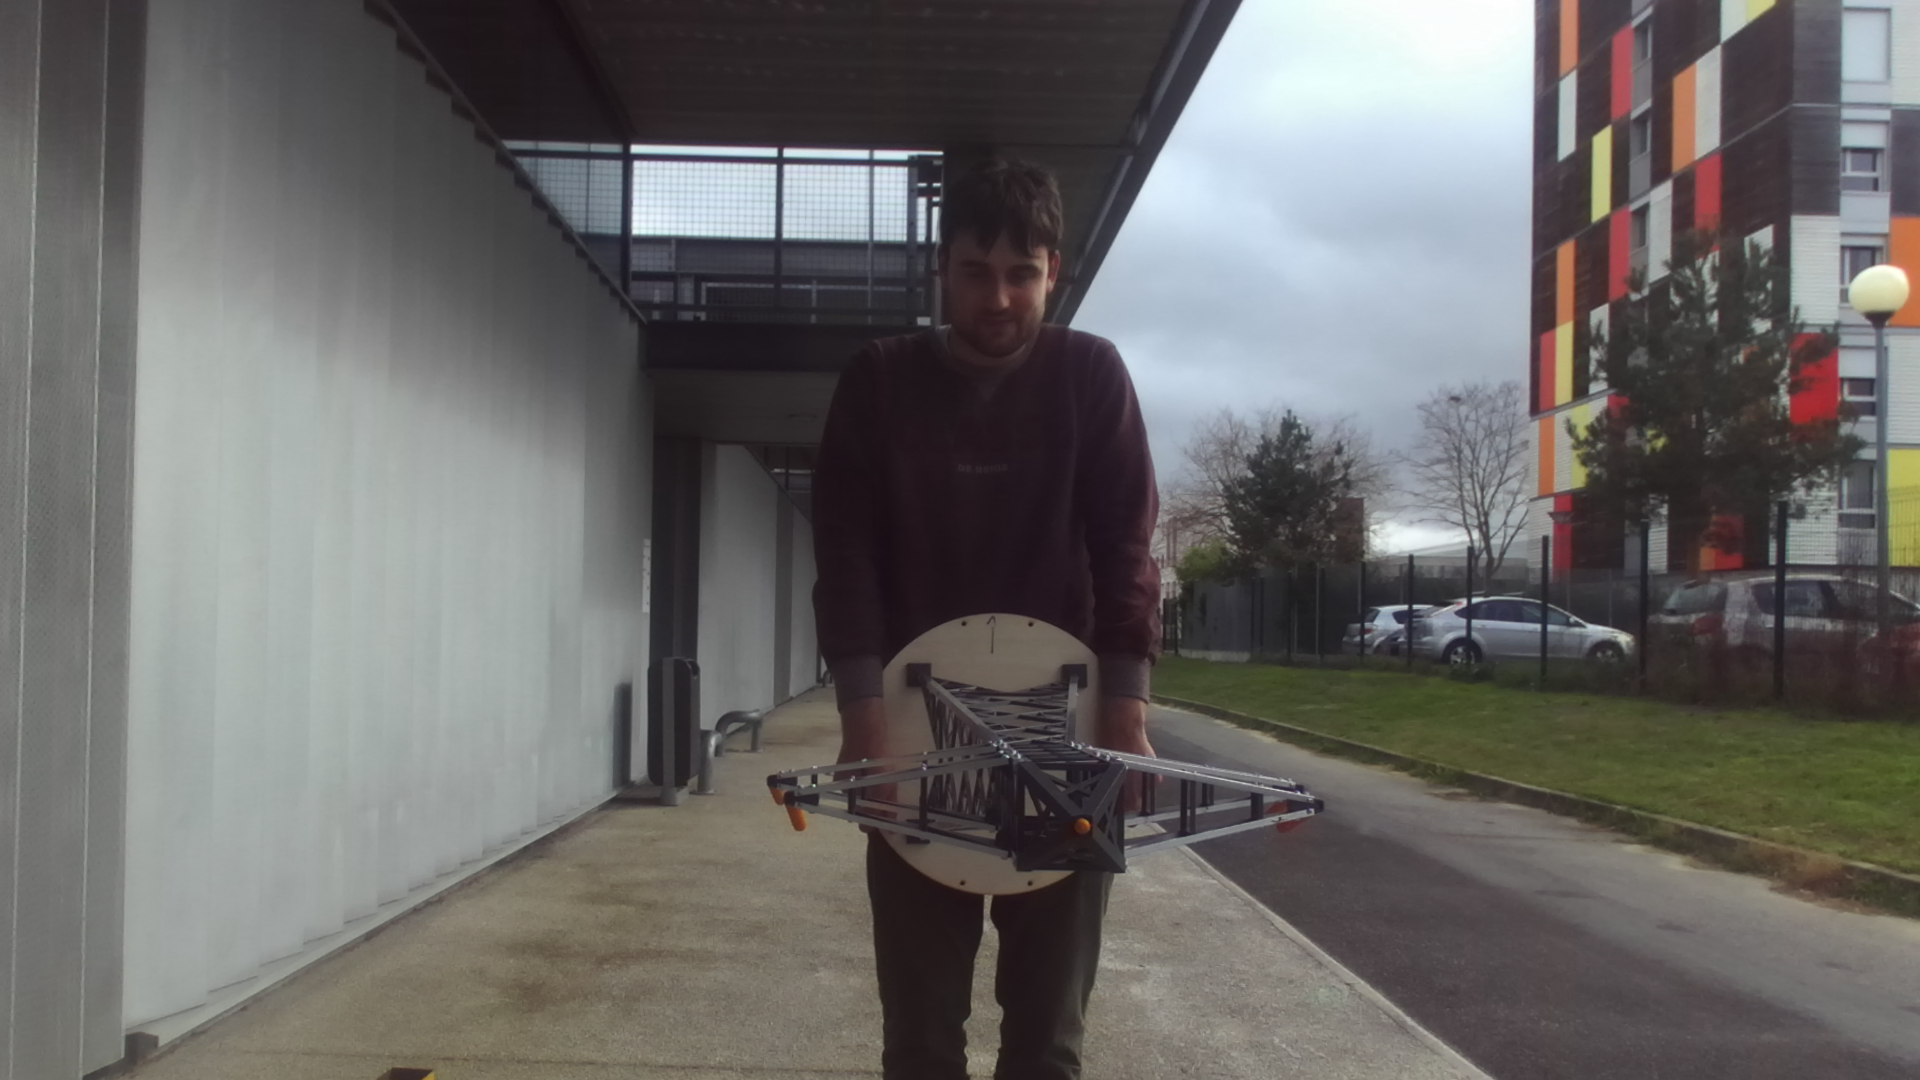pylon_phy: (781, 756, 1329, 876)
